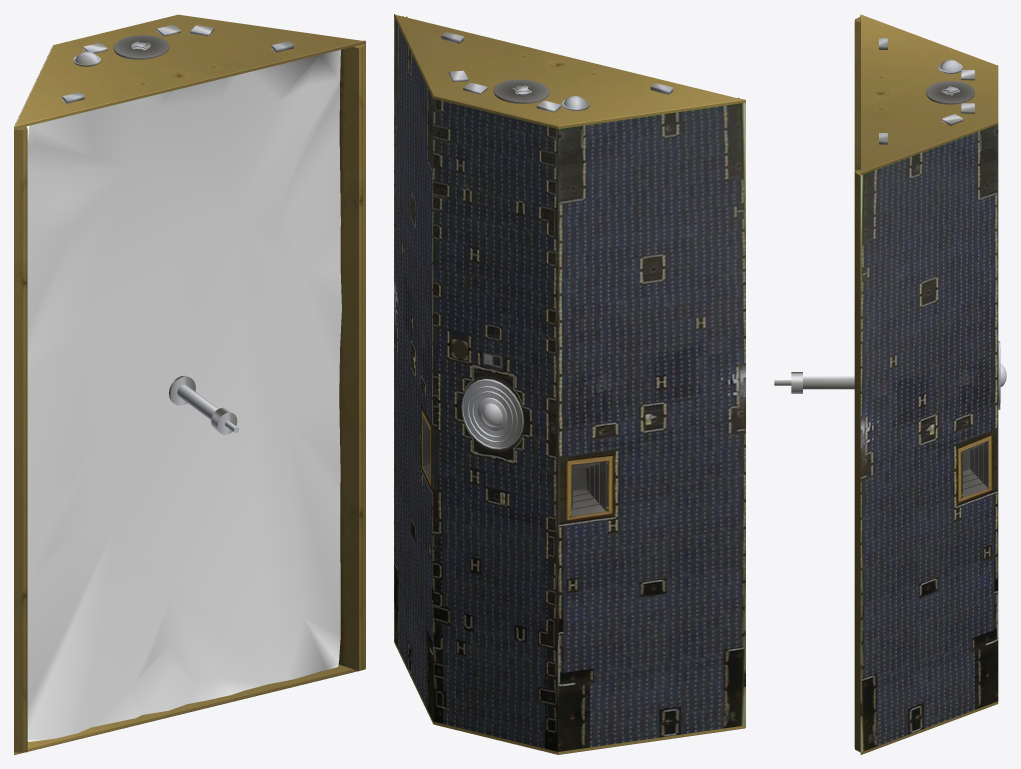
File: grace.gltf
3 renders of one model, left to right at view 1: azimuth 30°, elevation 25°; view 2: azimuth 150°, elevation 25°; view 3: azimuth 270°, elevation 25°, orthographic. The views are drawn at different scales.
Visible parts, largest first — view 1: foil_silver, BUS; view 2: shiny_panel, BUS; view 3: shiny_panel, BUS.
Part boxes in pixels (<box>): foil_silver: <box>27,50,341,741</box>; BUS: <box>14,14,365,754</box>; shiny_panel: <box>394,17,745,751</box>; BUS: <box>394,14,745,754</box>; shiny_panel: <box>860,124,998,752</box>; BUS: <box>774,14,1006,754</box>.
Size of the model in its own units: 1.89 by 3.29 by 1.17.
Materials: 3 (2 with a texture image).
